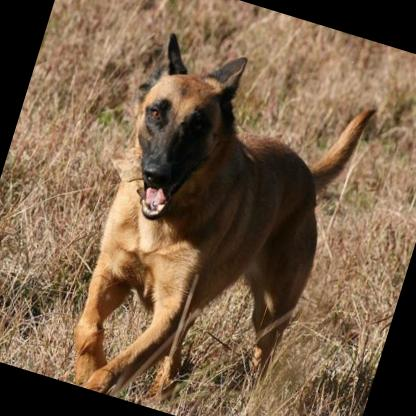malinois: (52, 26, 380, 416)
